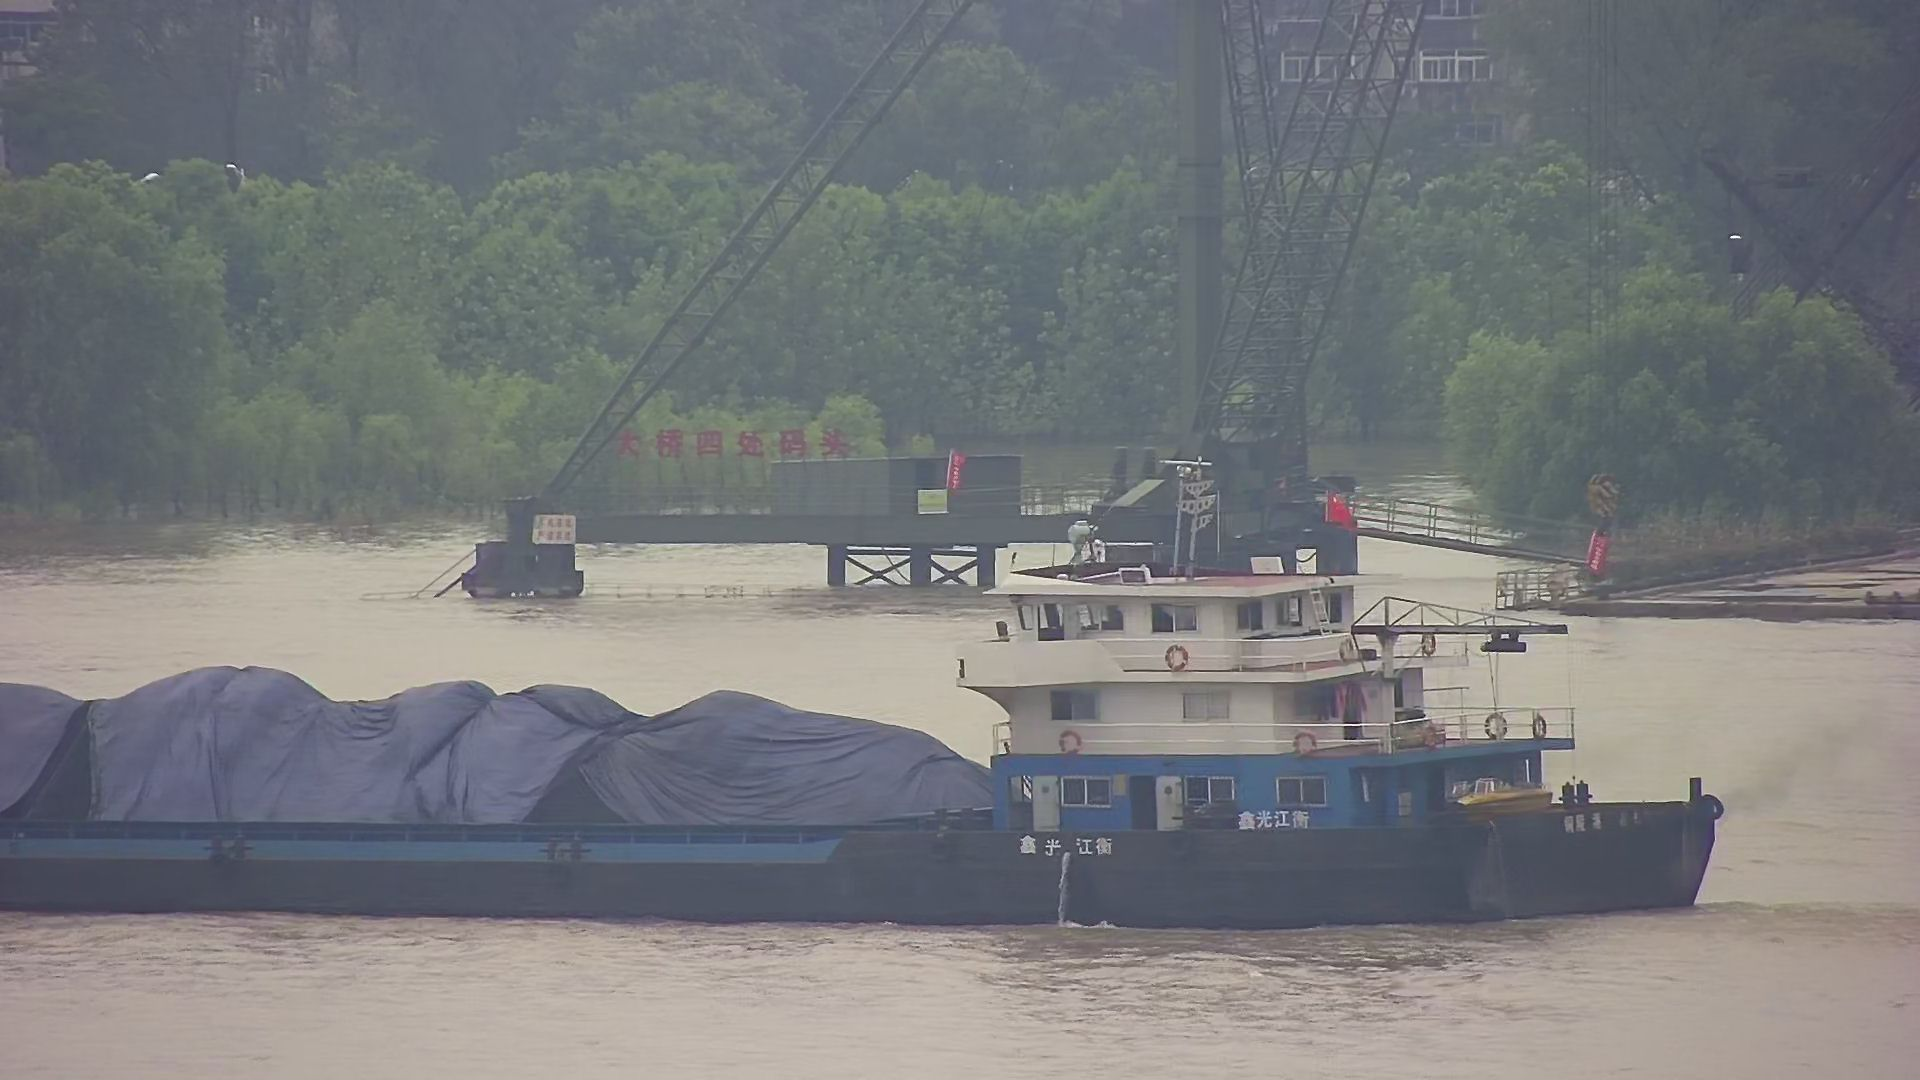platform: (419, 1, 1432, 611)
ship: (1, 448, 1741, 935)
